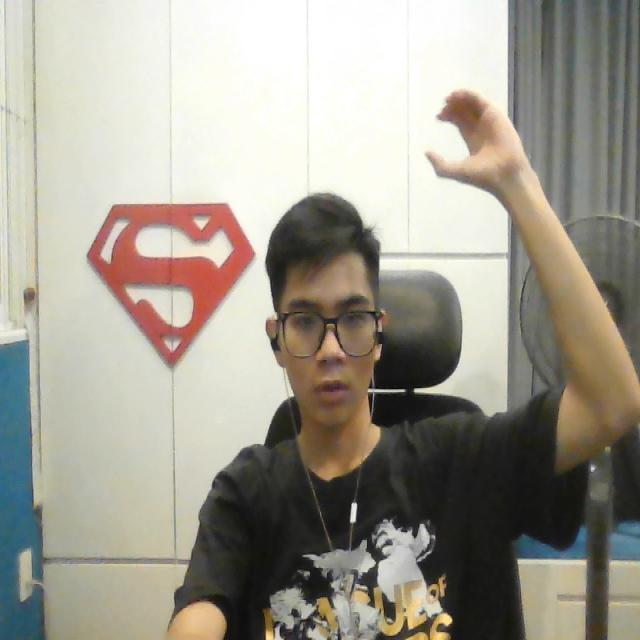C: (427, 90, 505, 196)
